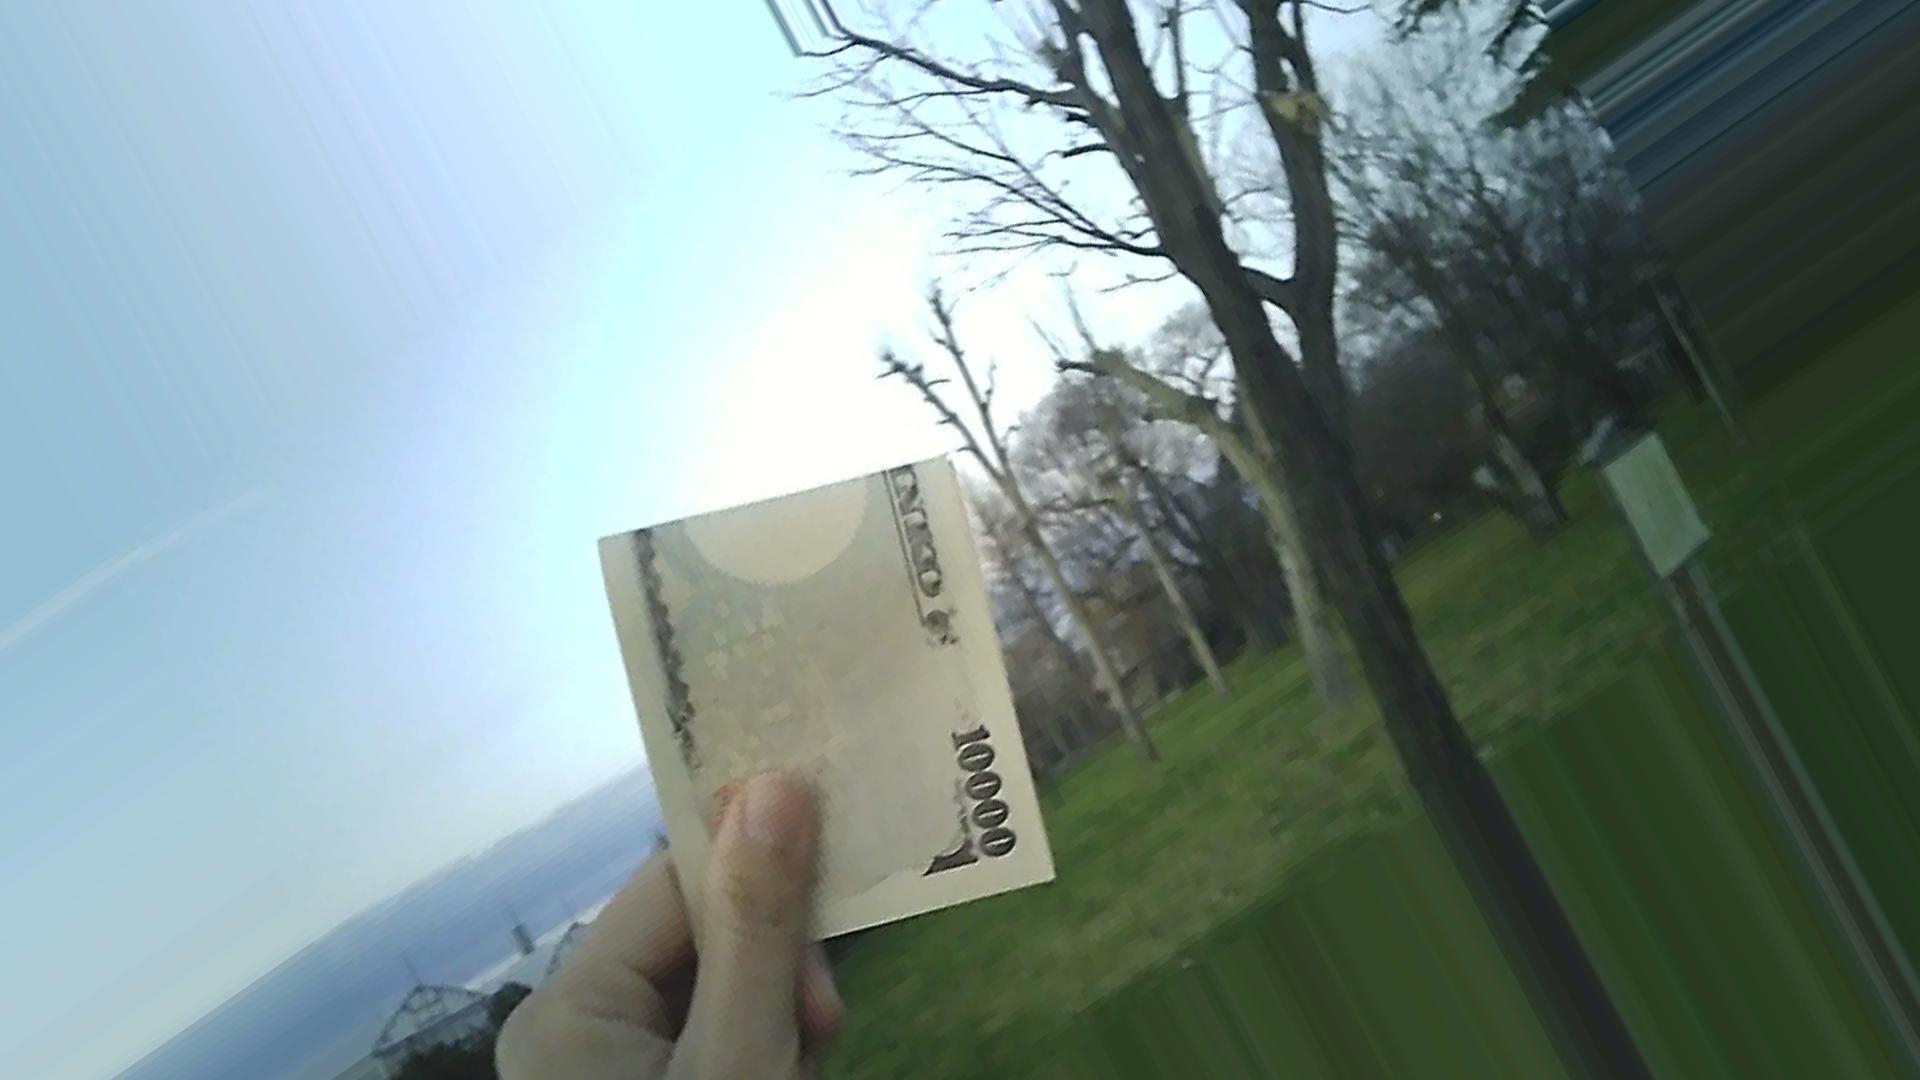10,000 Yen: (603, 464, 1069, 934)
